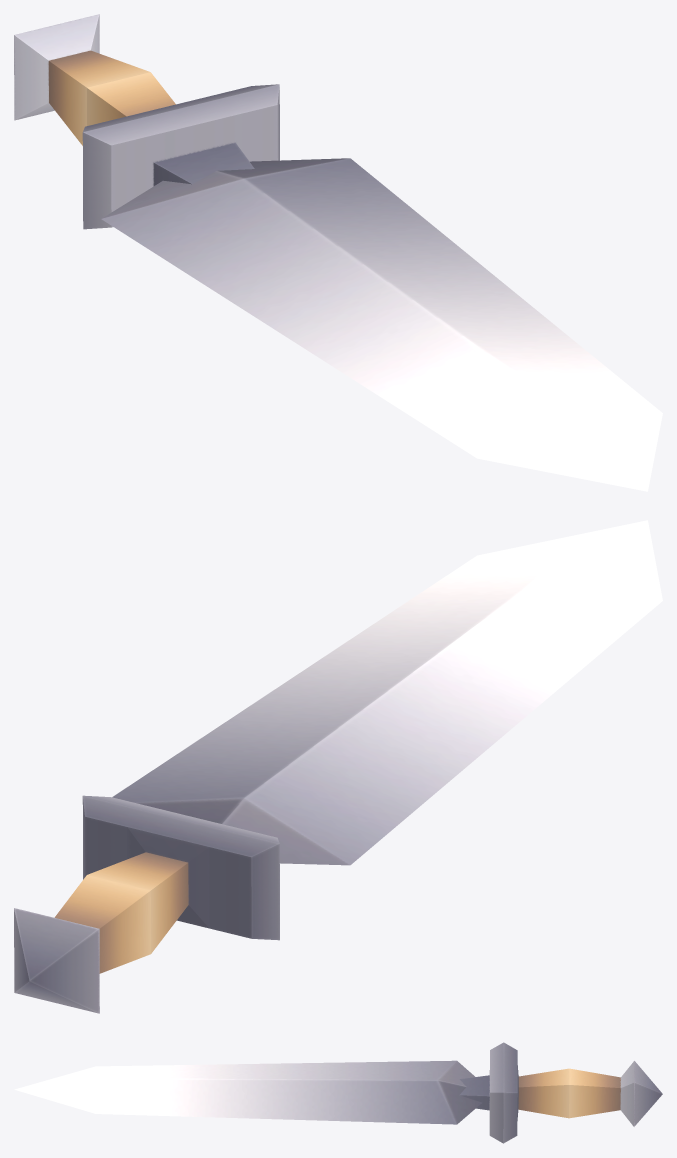
Rendered from stylized_low-poly_dagger.glb.
The picture shows the model from 3 angles, top to bottom: view 1: azimuth 30°, elevation 25°; view 2: azimuth 150°, elevation 25°; view 3: azimuth 270°, elevation 25°; orthographic projection. The views are drawn at different scales.
Parts seen in each view (by area): view 1: Cube_Material_0; view 2: Cube_Material_0; view 3: Cube_Material_0.
Boxes of the visible parts, box(x1,y1,x2,y2) form: Cube_Material_0: box(14, 14, 662, 491); Cube_Material_0: box(14, 520, 662, 1013); Cube_Material_0: box(14, 1042, 662, 1143).
Size of the model in its own units: 0.298 by 0.1106 by 1.28.
Materials: 1 (1 with a texture image).
